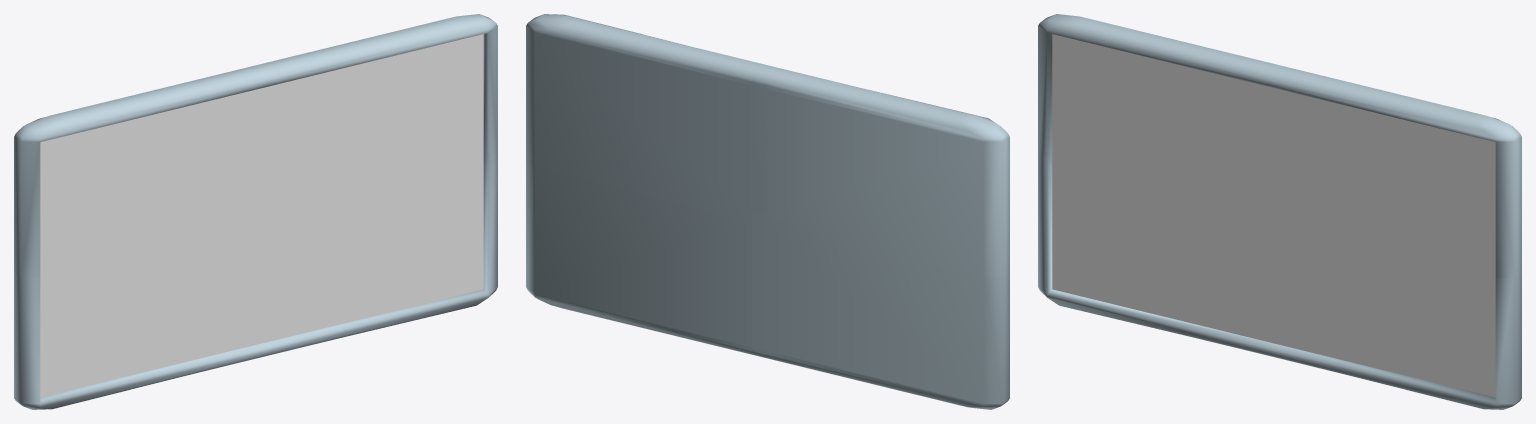
3 renders of one model, left to right at view 1: azimuth 30°, elevation 25°; view 2: azimuth 150°, elevation 25°; view 3: azimuth 330°, elevation 25°, orthographic.
Visible parts, largest first — view 1: Cube; view 2: Cube; view 3: Cube.
Part boxes in pixels (bbox=[...]): Cube: bbox=[14, 14, 497, 409]; Cube: bbox=[526, 14, 1009, 409]; Cube: bbox=[1038, 14, 1521, 409].
Bounding box in the file's own units: 4.03 × 2.31 × 0.2501.
